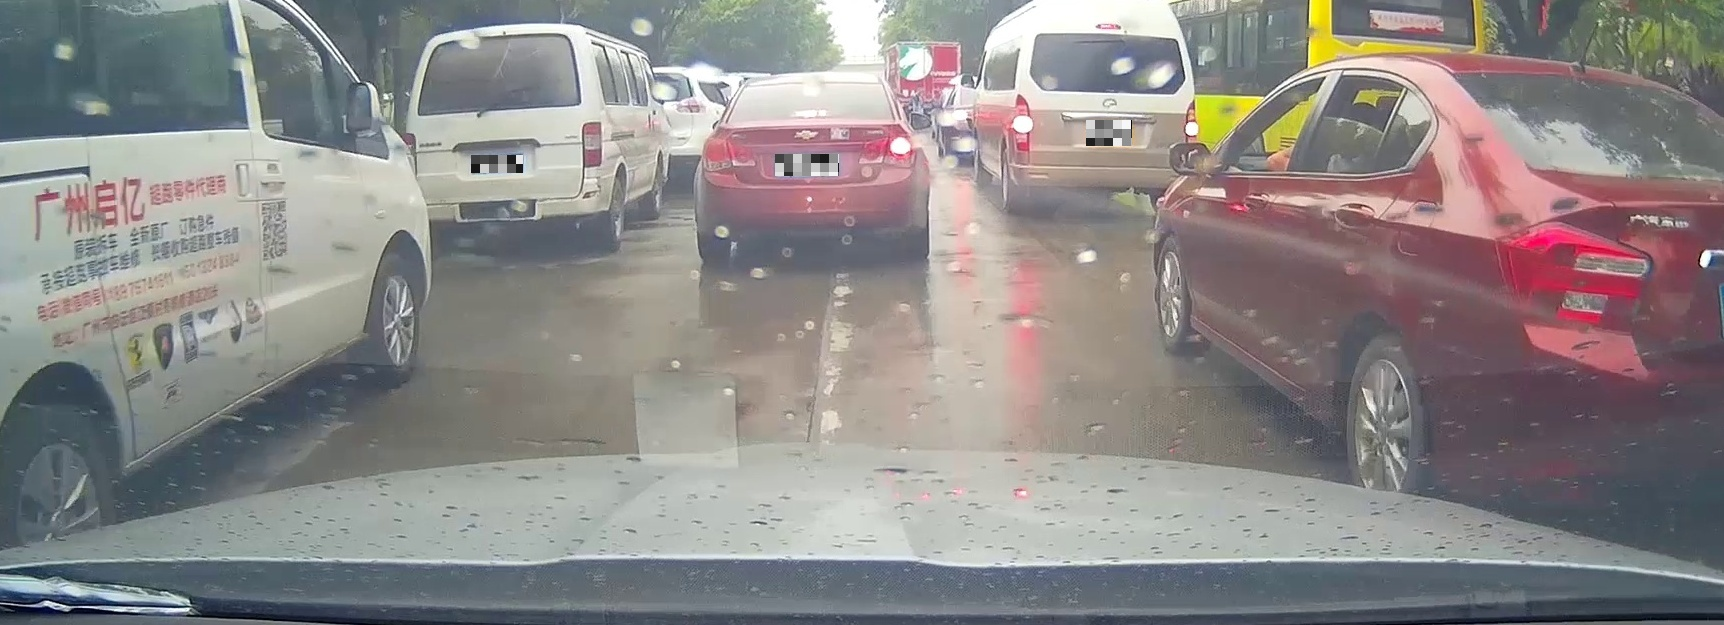L_light: (701, 138, 758, 171), (1012, 94, 1031, 165), (404, 132, 417, 179)
R_light: (858, 136, 917, 168), (581, 122, 603, 168), (1185, 98, 1197, 144)
T_light: (792, 111, 827, 117), (475, 31, 506, 36), (1095, 23, 1121, 28)
day-brake: (1007, 0, 1200, 216)
day-no: (404, 23, 608, 254)
day-right: (694, 70, 930, 264)
plate_1: (471, 155, 523, 173)
plate_2: (775, 154, 839, 176)
plate_3: (1086, 120, 1132, 146)
